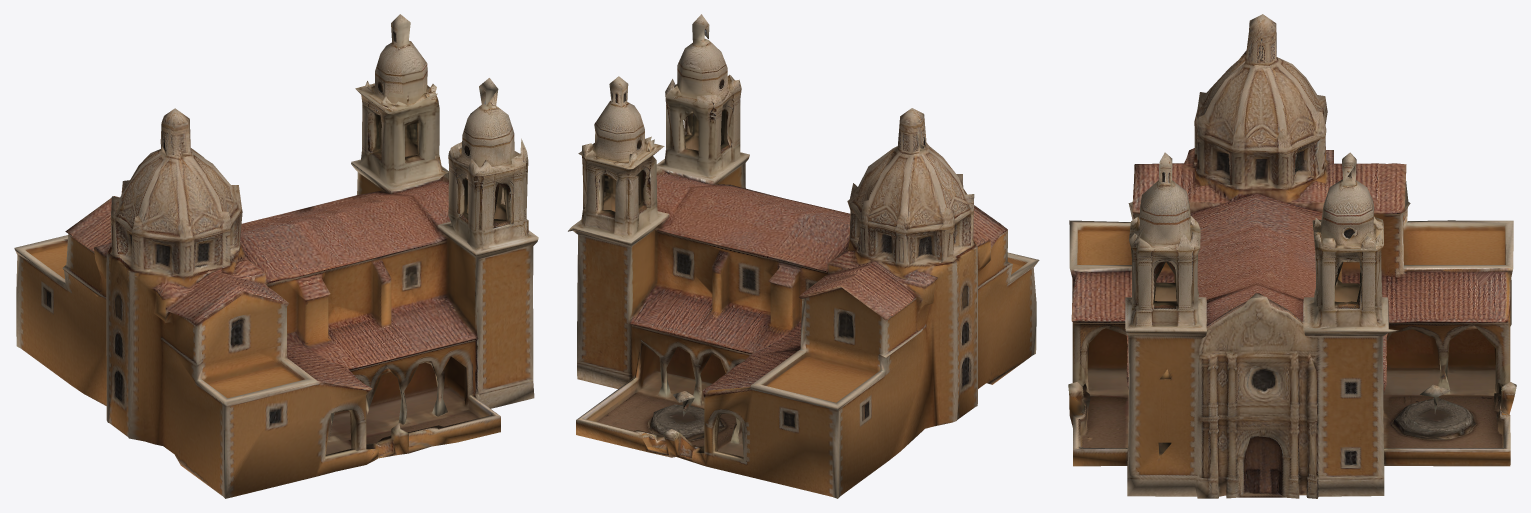
Rendered from iglesia.glb.
3 views of the same model, side by side, from view 1: azimuth 30°, elevation 25°; view 2: azimuth 150°, elevation 25°; view 3: azimuth 270°, elevation 25° (orthographic). The views are drawn at different scales.
Visible parts, largest first — view 1: tripo_node_28f03d99-b743-48f8-9294-a90945f46926; view 2: tripo_node_28f03d99-b743-48f8-9294-a90945f46926; view 3: tripo_node_28f03d99-b743-48f8-9294-a90945f46926.
Part boxes in pixels (left/top/right/bottom): tripo_node_28f03d99-b743-48f8-9294-a90945f46926: left=14, top=14, right=538, bottom=498; tripo_node_28f03d99-b743-48f8-9294-a90945f46926: left=568, top=14, right=1039, bottom=498; tripo_node_28f03d99-b743-48f8-9294-a90945f46926: left=1068, top=14, right=1516, bottom=498.
Bounding box in the file's own units: 0.9677 × 0.8175 × 0.9987.
Materials: 1 (1 with a texture image).
